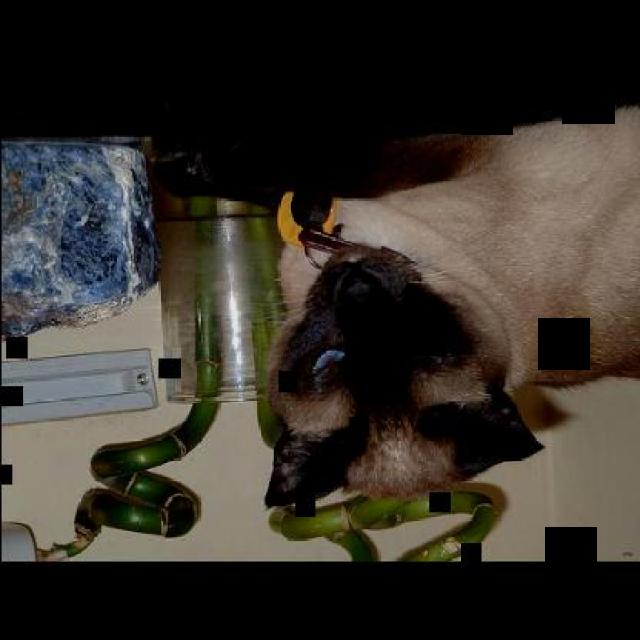unauthorized: (260, 100, 638, 509)
